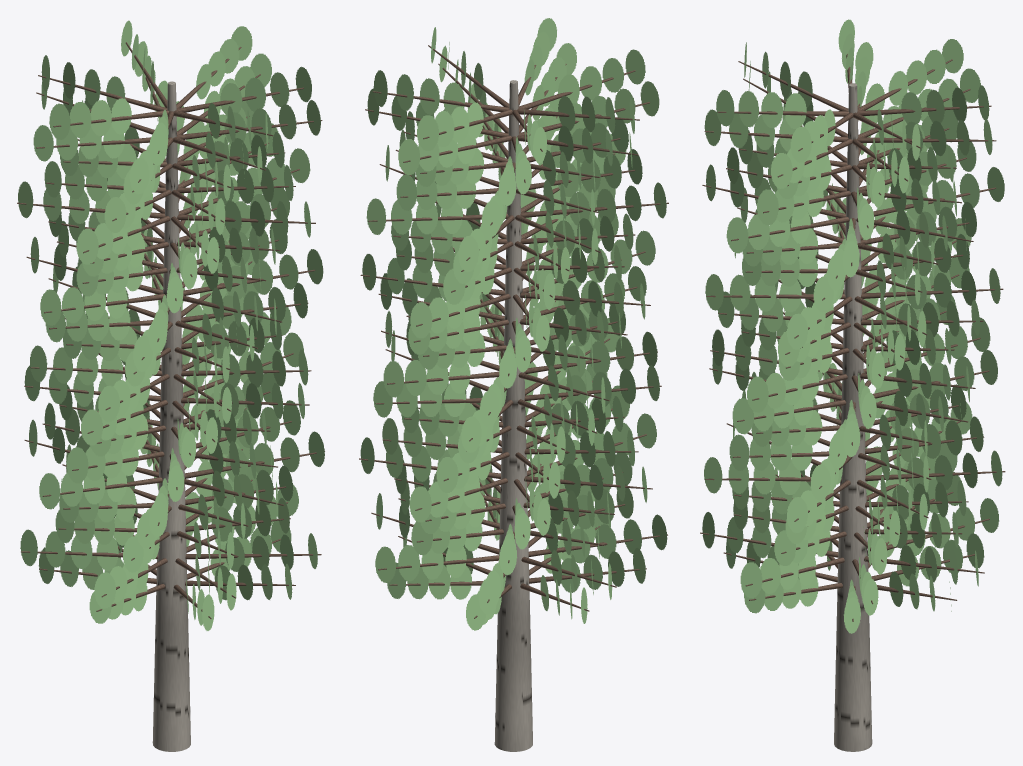
The model's file is tree_maple01.glb.
3 views of the same model, side by side, from view 1: azimuth 30°, elevation 25°; view 2: azimuth 150°, elevation 25°; view 3: azimuth 270°, elevation 25° (orthographic).
Visible parts, largest first — view 1: foliage, branches, trunk; view 2: foliage, branches, trunk; view 3: foliage, branches, trunk.
Boxes of the visible parts, bbox=[...] form: foliage: bbox=[18, 20, 324, 630]; branches: bbox=[17, 42, 324, 618]; trunk: bbox=[152, 81, 190, 751]; foliage: bbox=[360, 18, 667, 630]; branches: bbox=[359, 45, 668, 618]; trunk: bbox=[494, 80, 532, 751]; foliage: bbox=[702, 19, 1004, 633]; branches: bbox=[700, 54, 1005, 621]; trunk: bbox=[834, 83, 872, 751].
Bounding box in the file's own units: 4.25 × 10.02 × 4.2.
Materials: 3 (3 with a texture image).
